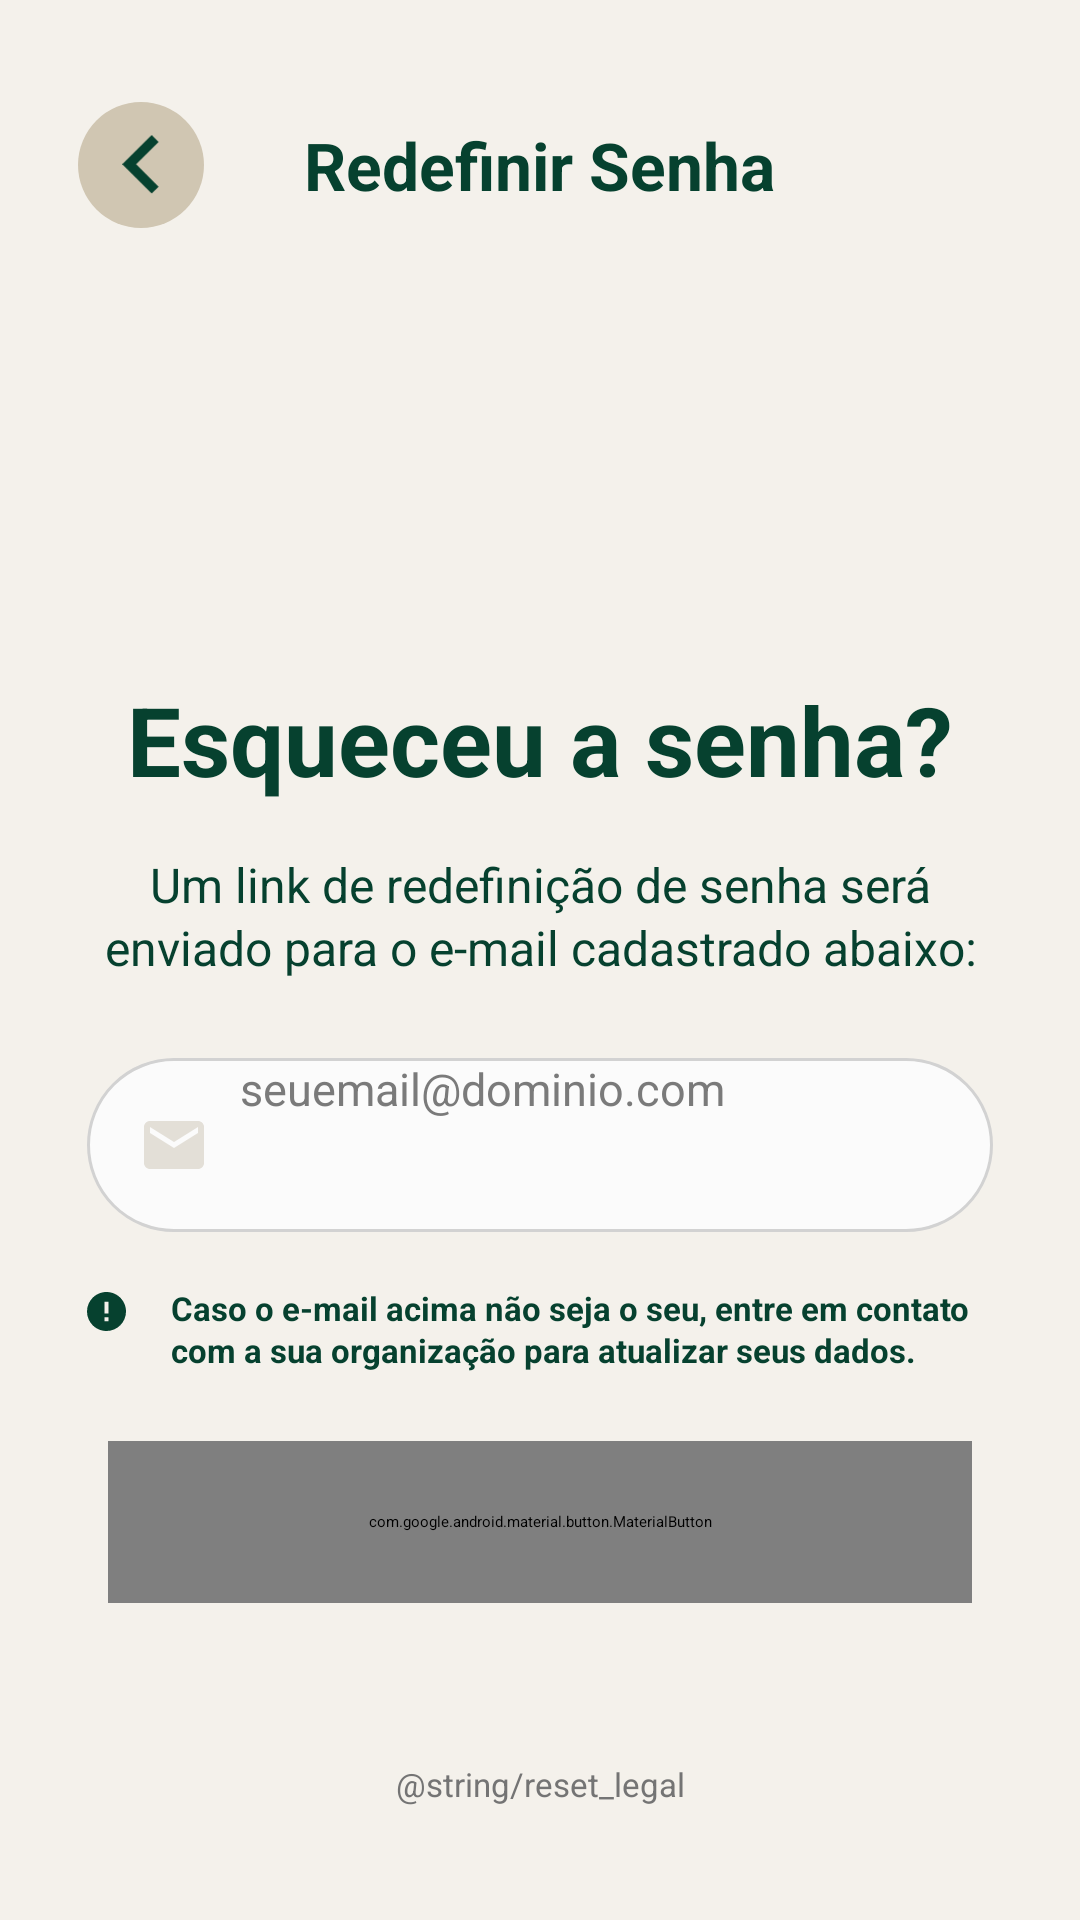

Screen size 1080 x 1920. Icon name, then its box in pixels as (x1, y1, x2, y2):
Voltar: (78, 102, 204, 228)
warning: (87, 1292, 126, 1331)
